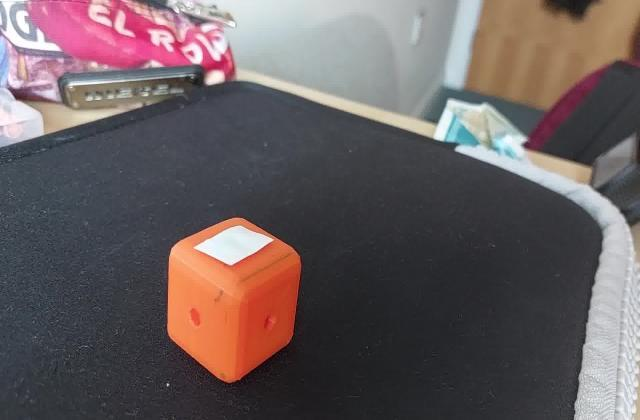cube: (162, 212, 302, 386)
white: (199, 233, 265, 272)
